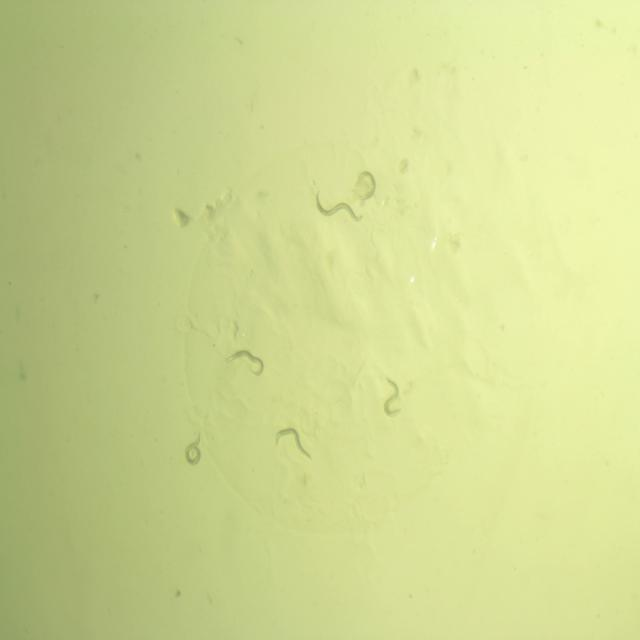worm: (311, 188, 366, 232), (271, 423, 315, 463), (224, 345, 267, 380), (181, 430, 208, 473), (379, 374, 404, 419), (351, 165, 378, 203)
